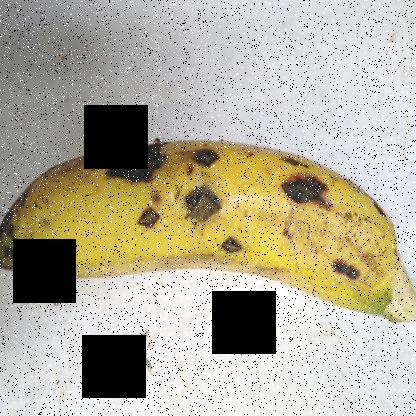ripe: (1, 128, 406, 326)
rotten: (112, 118, 176, 190), (278, 138, 340, 212), (187, 105, 237, 181), (179, 164, 230, 237), (324, 228, 375, 289), (209, 230, 254, 284), (138, 199, 171, 232)
